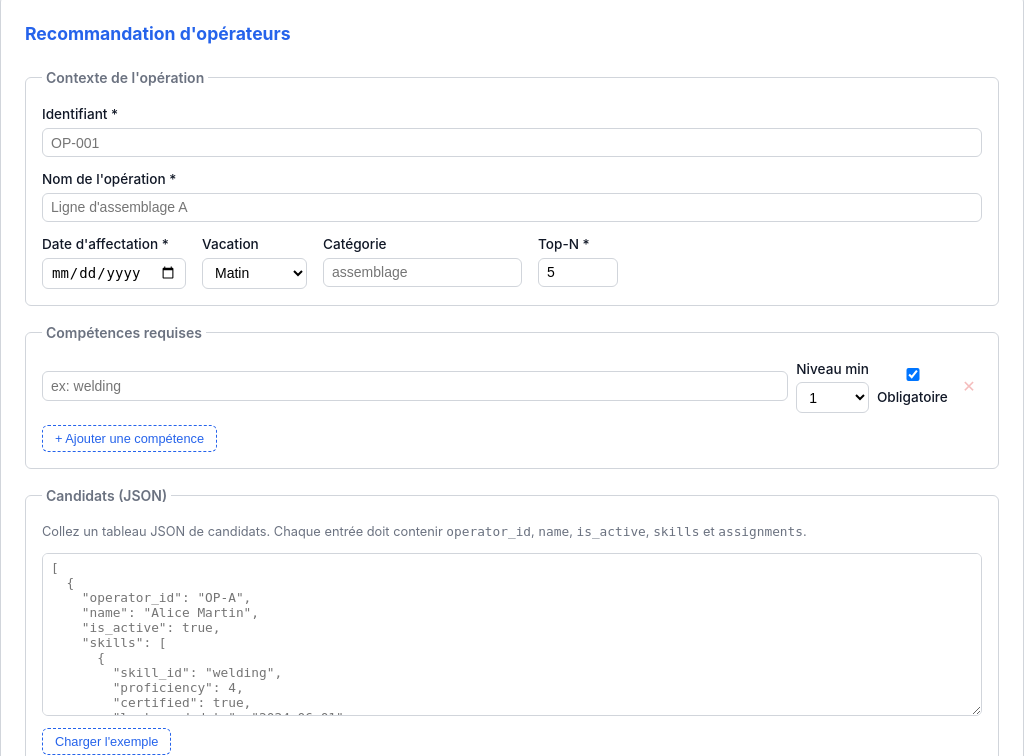
Test: RecommendationForm — validation › shows error when top_n is out of range
Replace the text in the number field labelled "Top-N *" with "0" at [578, 272], box [538, 258, 618, 287]
(page scrolled)
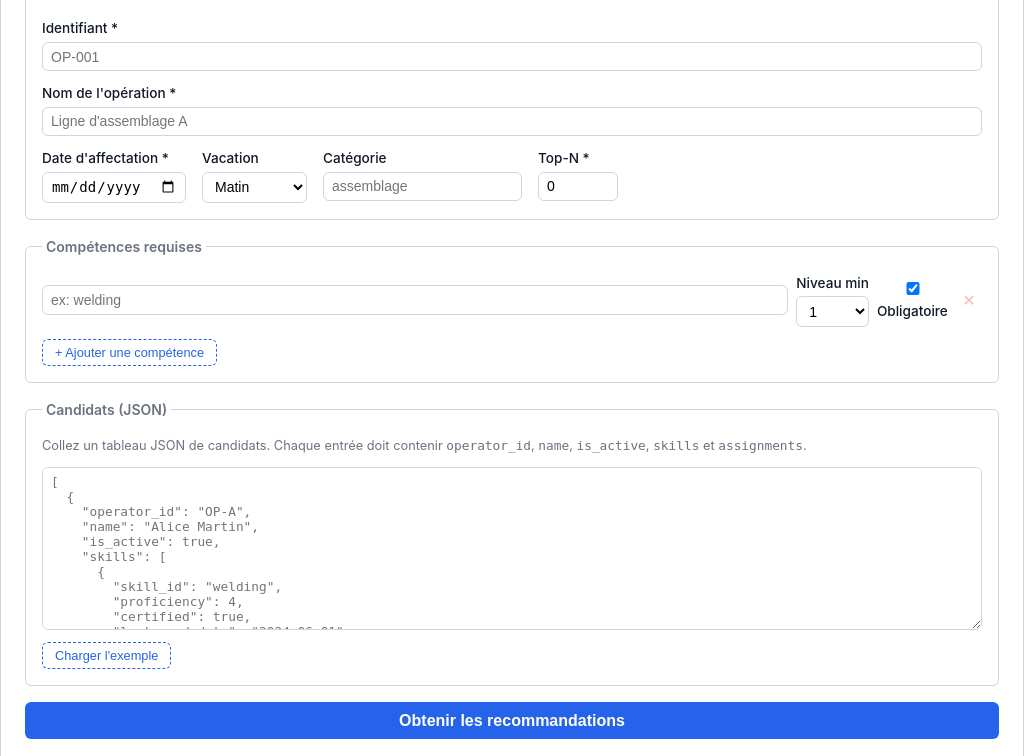
Click the button "Obtenir les recommandations" at [512, 721], box [25, 702, 999, 739]
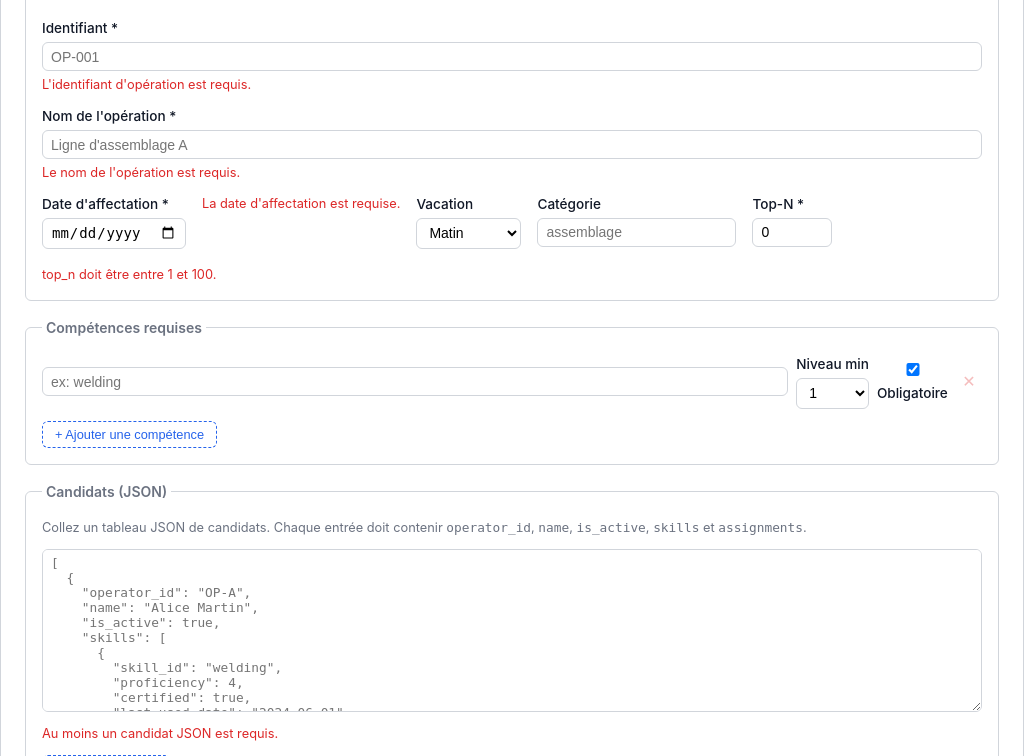
Check: the text "top_n doit être entre 1 et 100." is shown, box [42, 265, 216, 284]
